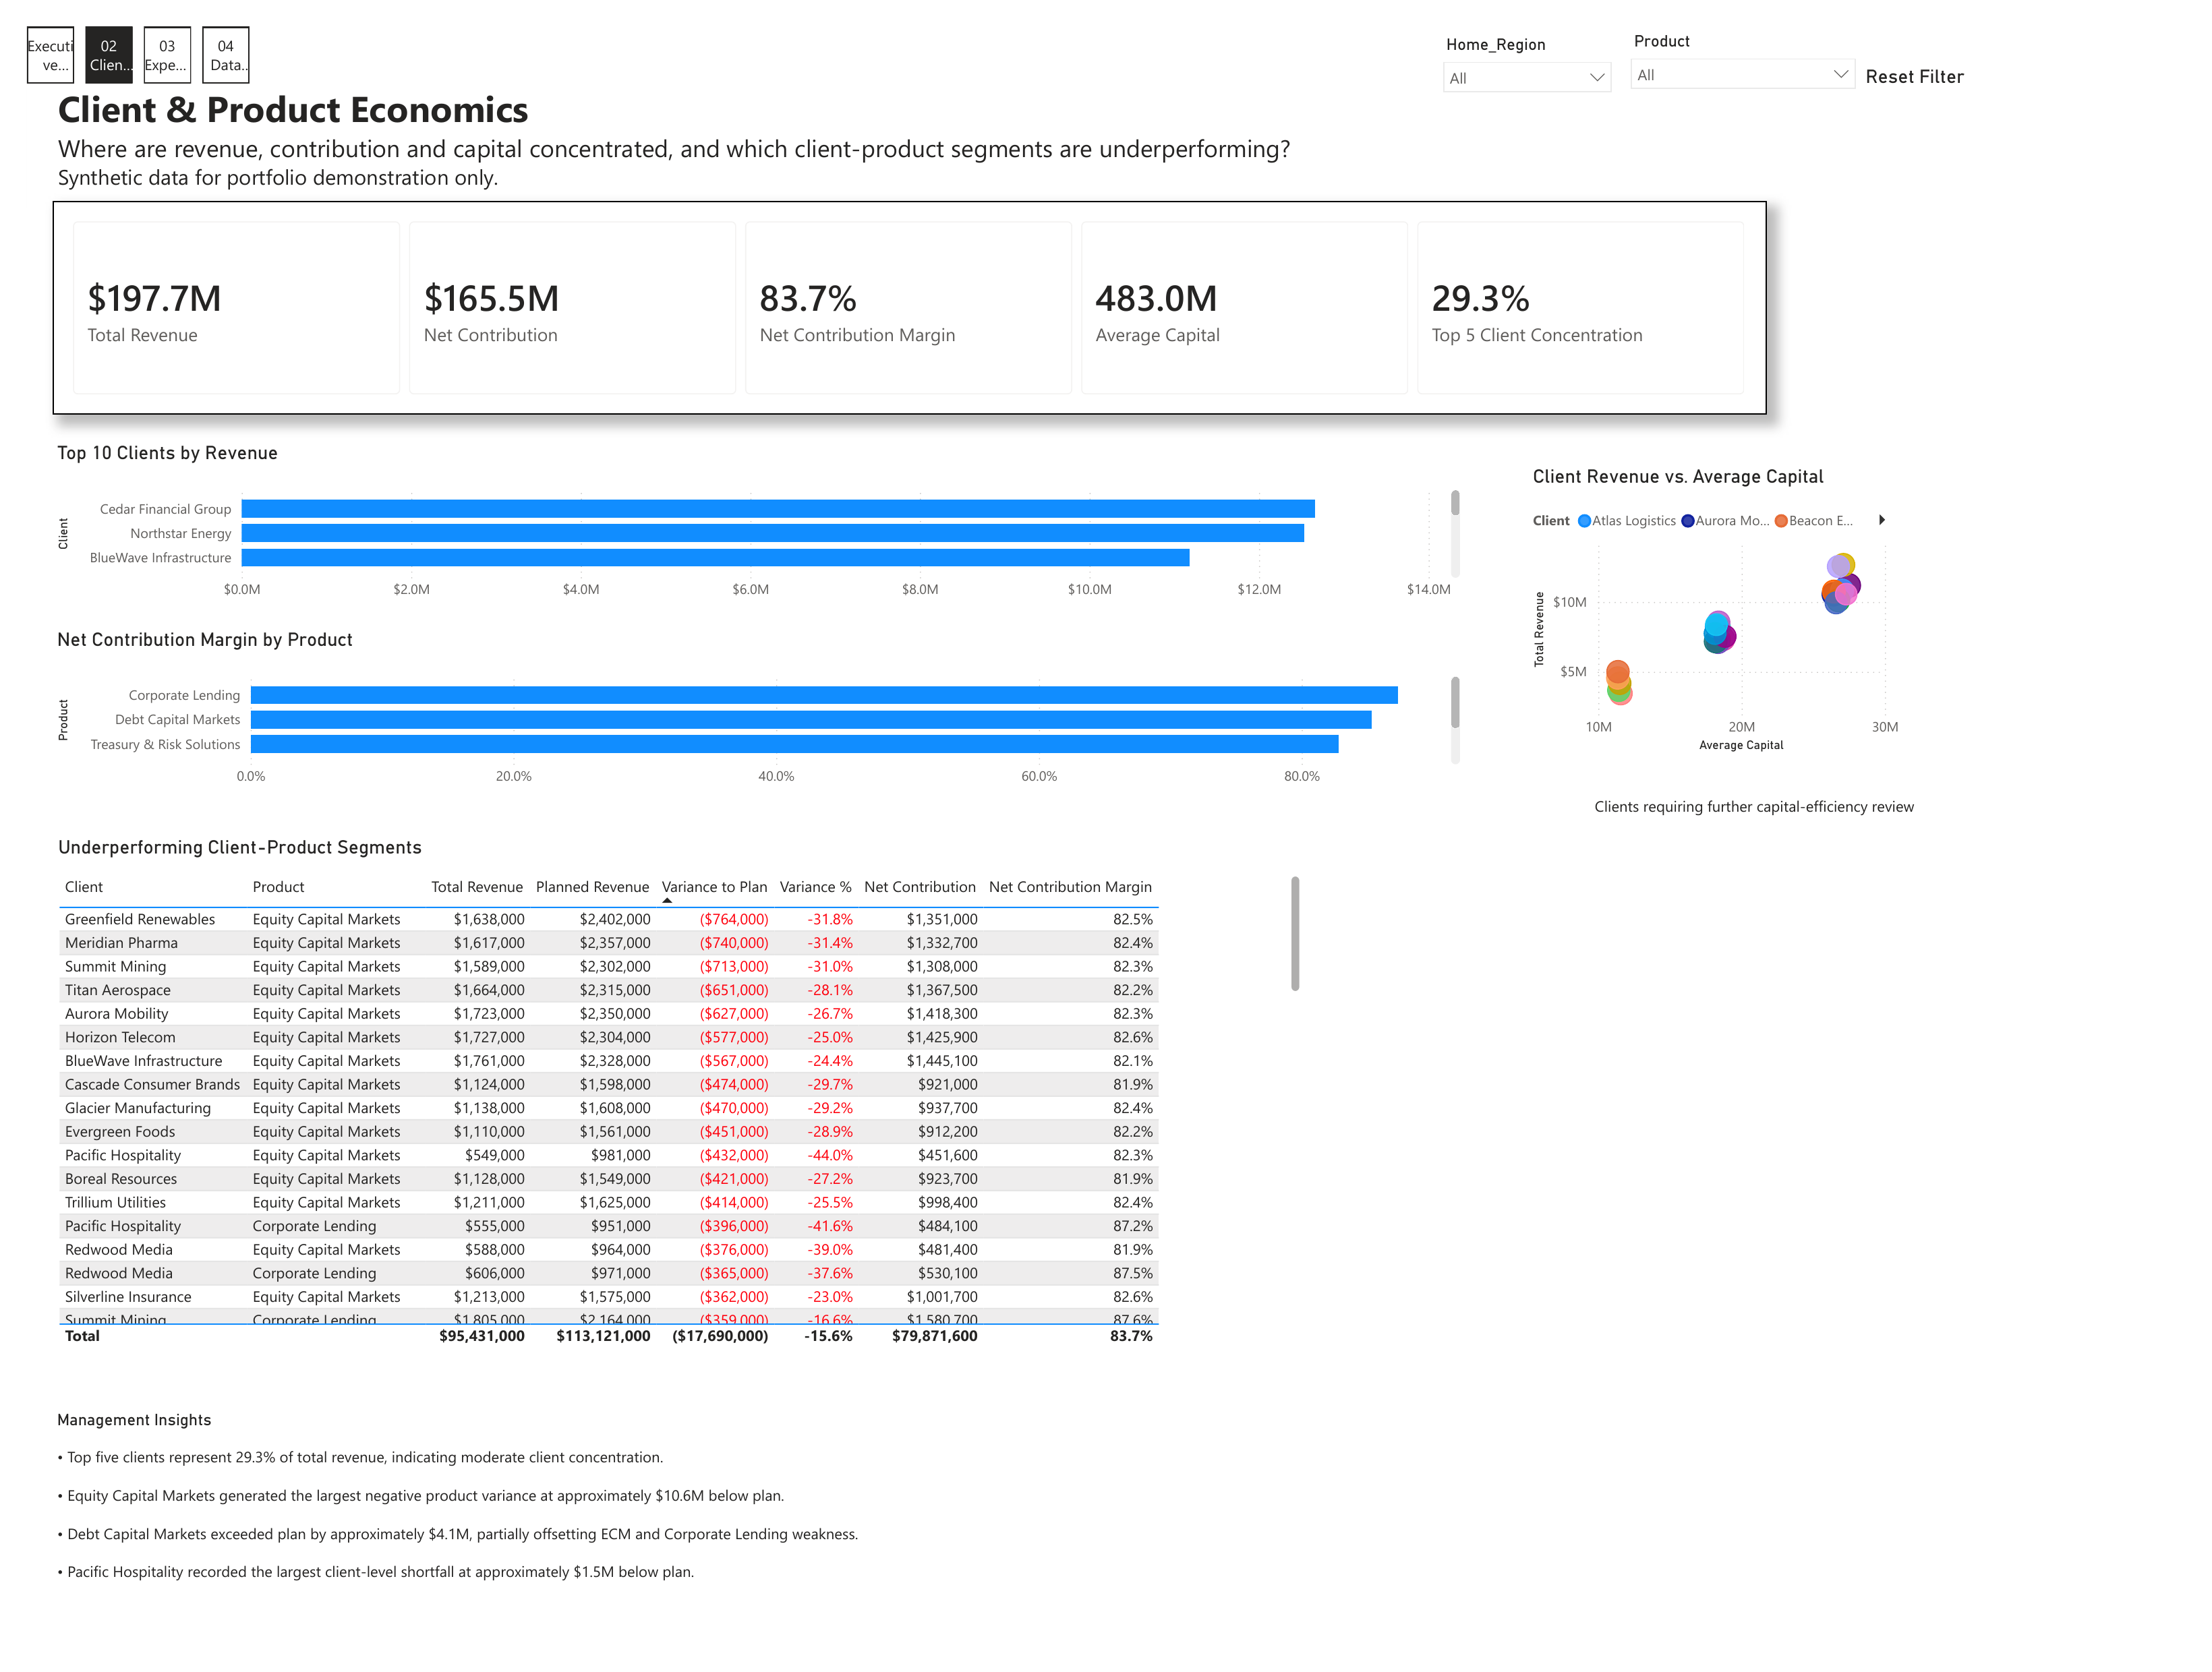

The page's visual inventory and layout, read from the dashboard file:
{"tool":"powerbi","page":{"name":"02 Client & Product Economics","canvas":[1920,1440],"ordinal":1},"visuals":[{"type":"textbox","box":[22.5,45,1257.5,108.8],"z":0},{"type":"clusteredBarChart","title":"Top 10 Clients by Revenue","fields":{"Category":["Dim_Client.Client"],"Y":["Fact_Performance.Total Revenue"]},"box":[22,369,1258,150],"z":1000},{"type":"clusteredBarChart","title":"Net Contribution Margin by Product","fields":{"Category":["Dim_Product.Product"],"Y":["Fact_Performance.Net Contribution Margin"]},"box":[22,534.5,1258,150],"z":2000},{"type":"scatterChart","title":"Client Revenue vs. Average Capital","fields":{"X":["Fact_Performance.Average Capital"],"Y":["Fact_Performance.Total Revenue"],"Size":["Fact_Performance.Total Transactions"],"Series":["Dim_Client.Client"]},"box":[1335,390,335,260],"z":3000},{"type":"slicer","fields":{"Values":["Dim_Client.Home_Region"]},"box":[1250,3.3,170,150],"z":4000},{"type":"slicer","fields":{"Values":["Dim_Product.Product"]},"box":[1416.7,0,220,150],"z":5000},{"type":"textbox","title":"Management Insights","box":[22,1232,1045,180],"z":6000},{"type":"actionButton","title":"Reset Filter","box":[1636.2,33.8,111.2,21.2],"z":7000},{"type":"pageNavigator","box":[0,0,200,50],"z":8000},{"type":"cardVisual","fields":{"Data":["Fact_Performance.Total Revenue","Fact_Performance.Net Contribution","Fact_Performance.Net Contribution Margin","Fact_Performance.Average Capital","Fact_Performance.Top 5 Client Concentration"]},"box":[22.5,155,1525,190],"z":9000},{"type":"textbox","box":[1723.5,27.5,196.5,150],"z":10000},{"type":"textbox","box":[1390,680,314,38],"z":11000},{"type":"tableEx","title":"Underperforming Client-Product Segments","fields":{"Values":["Dim_Client.Client","Dim_Product.Product","Fact_Performance.Total Revenue","Fact_Performance.Planned Revenue","Fact_Performance.Variance to Plan","Fact_Performance.Variance %","Fact_Performance.Net Contribution","Fact_Performance.Net Contribution Margin"]},"box":[22.5,720,1115,460],"z":12000}]}

Visuals, with their boxes on the page's 1920x1440 design canvas (x1, y1, x2, y2). These are canvas units, not pixel positions in the 2212x1672 screenshot, which may show the page scaled, cropped or inside an application window:
textbox: rect(22, 45, 1280, 154)
"Top 10 Clients by Revenue" clusteredBarChart: rect(22, 369, 1280, 519)
"Net Contribution Margin by Product" clusteredBarChart: rect(22, 534, 1280, 684)
"Client Revenue vs. Average Capital" scatterChart: rect(1335, 390, 1670, 650)
slicer - Dim_Client.Home_Region: rect(1250, 3, 1420, 153)
slicer - Dim_Product.Product: rect(1417, 0, 1637, 150)
"Management Insights" textbox: rect(22, 1232, 1067, 1412)
"Reset Filter" actionButton: rect(1636, 34, 1747, 55)
pageNavigator: rect(0, 0, 200, 50)
cardVisual - Fact_Performance.Total Revenue x Fact_Performance.Net Contribution: rect(22, 155, 1548, 345)
textbox: rect(1724, 28, 1920, 178)
textbox: rect(1390, 680, 1704, 718)
"Underperforming Client-Product Segments" tableEx: rect(22, 720, 1138, 1180)
